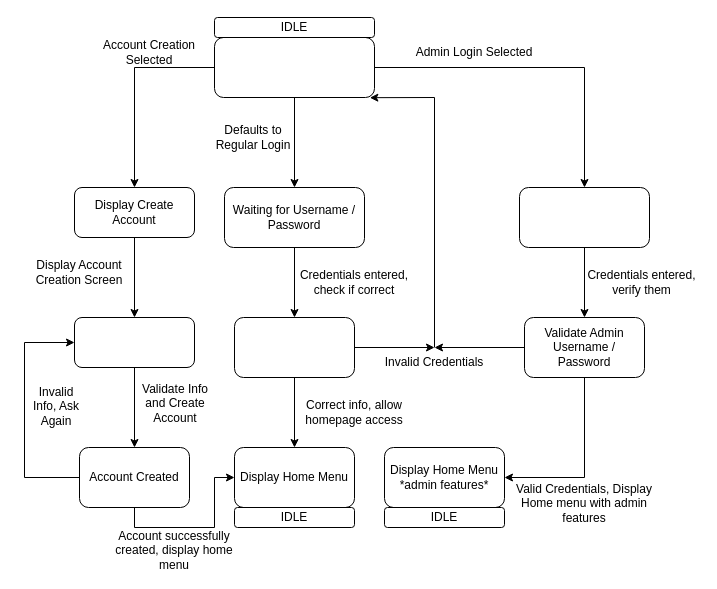
Some shapes in this 717 by 589 pixel diagram are drawn without their labels. The shapes that lost their labels are listed below. From the top down, each one's centre as x and y in pixels, then its label:
At pixel 294 67: "Display Login Screen".
At pixel 584 217: "Waiting for Admin Username / Password".
At pixel 134 342: "Waiting For New Account Info".
At pixel 294 347: "Validate Username / Password".
